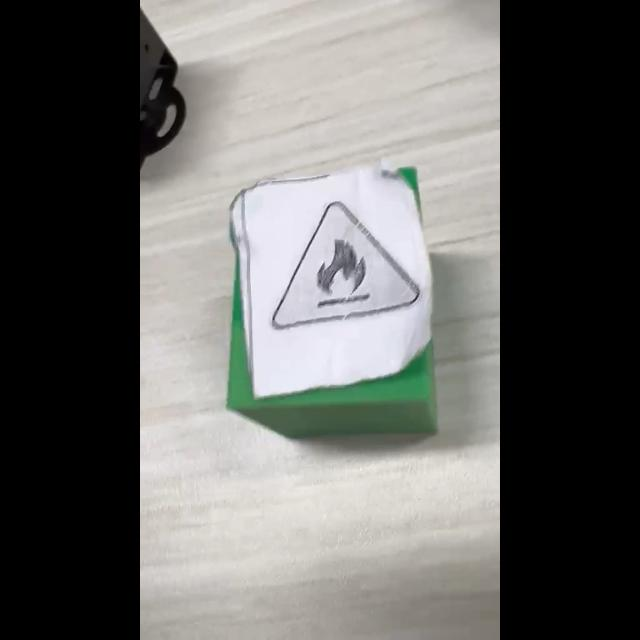Fire: (272, 201, 419, 329)
